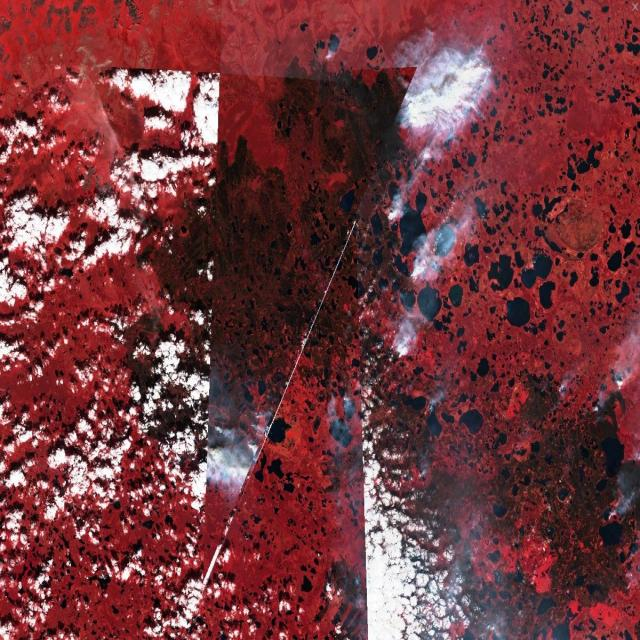fire: (368, 49, 450, 382), (183, 395, 280, 508), (603, 364, 640, 423)
